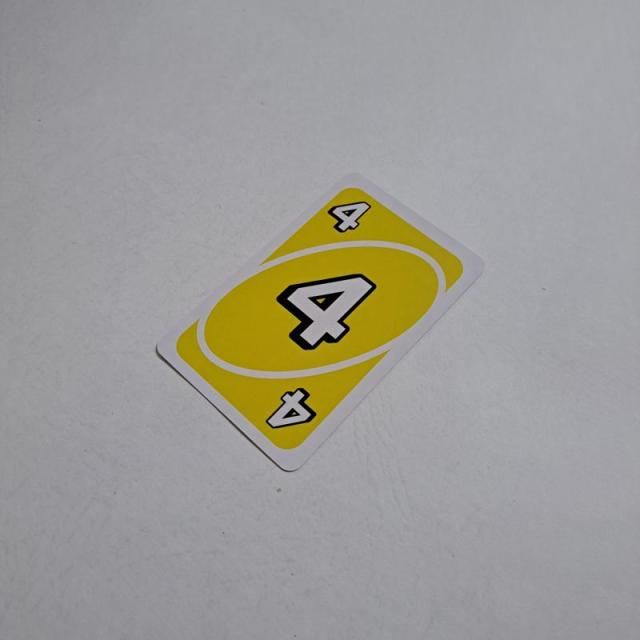Number_4: (323, 193, 376, 236)
Yellow_Card: (170, 175, 472, 453)
